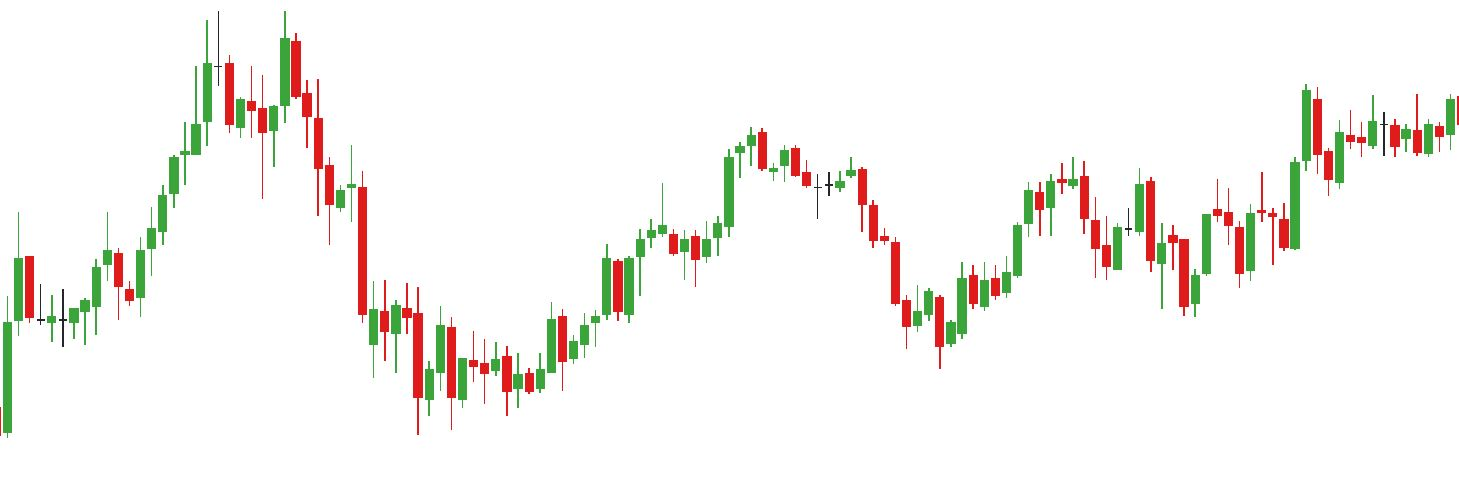buy: (1087, 214, 1168, 315)
